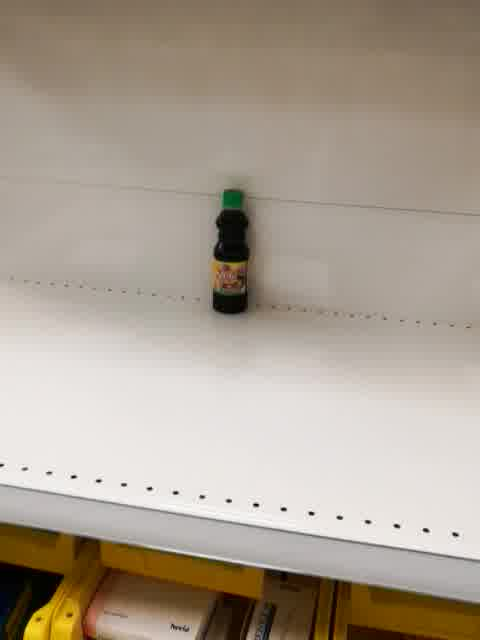cookingoil: (211, 187, 251, 316)
